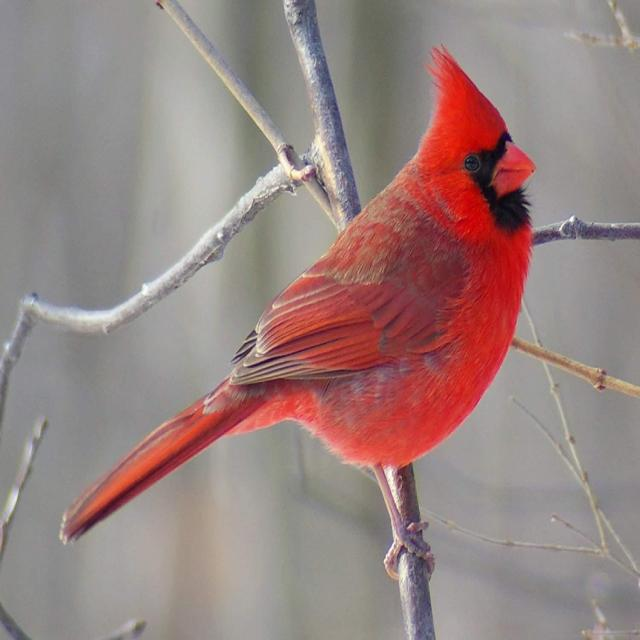other: (402, 75, 538, 450), (272, 260, 392, 379), (202, 399, 317, 426)
